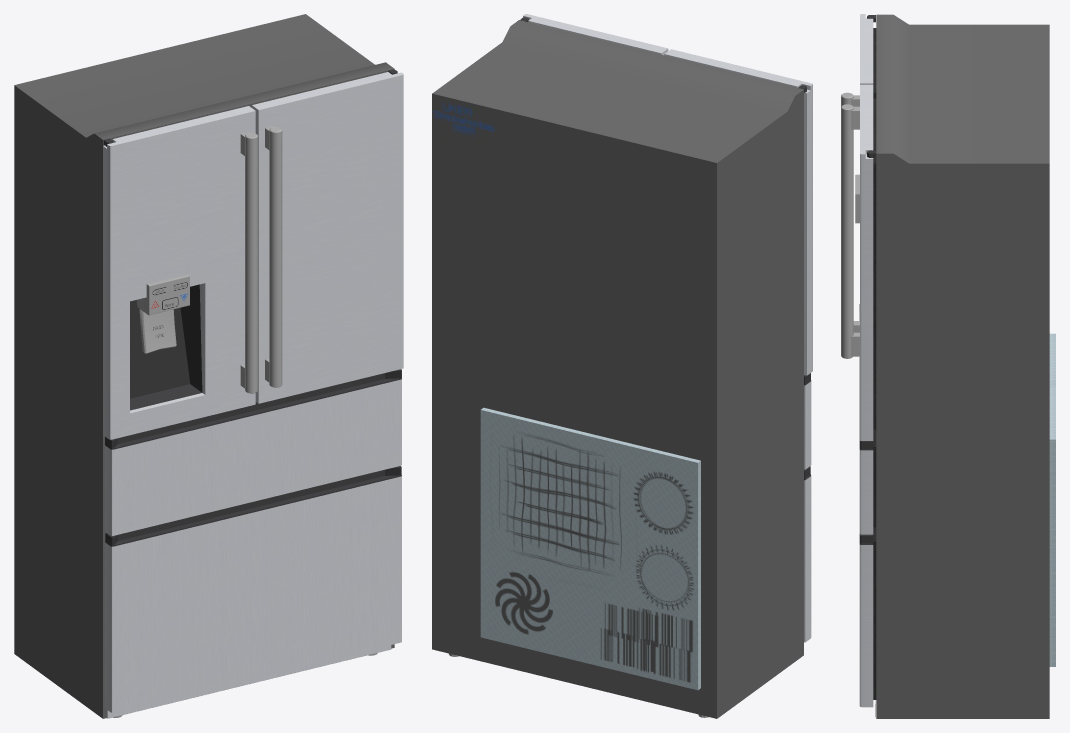
The picture shows the model from 3 angles, left to right: view 1: azimuth 30°, elevation 25°; view 2: azimuth 150°, elevation 25°; view 3: azimuth 270°, elevation 25°; orthographic projection. The views are drawn at different scales.
Parts seen in each view (by area): view 1: pCube17; view 2: pCube17; view 3: pCube17.
Boxes of the visible parts, <box> form: pCube17: <box>14,14,403,718</box>; pCube17: <box>432,14,812,718</box>; pCube17: <box>841,14,1055,718</box>.
Bounding box in the file's own units: 0.9596 × 1.82 × 0.6206.
Materials: 6 (6 with a texture image).
